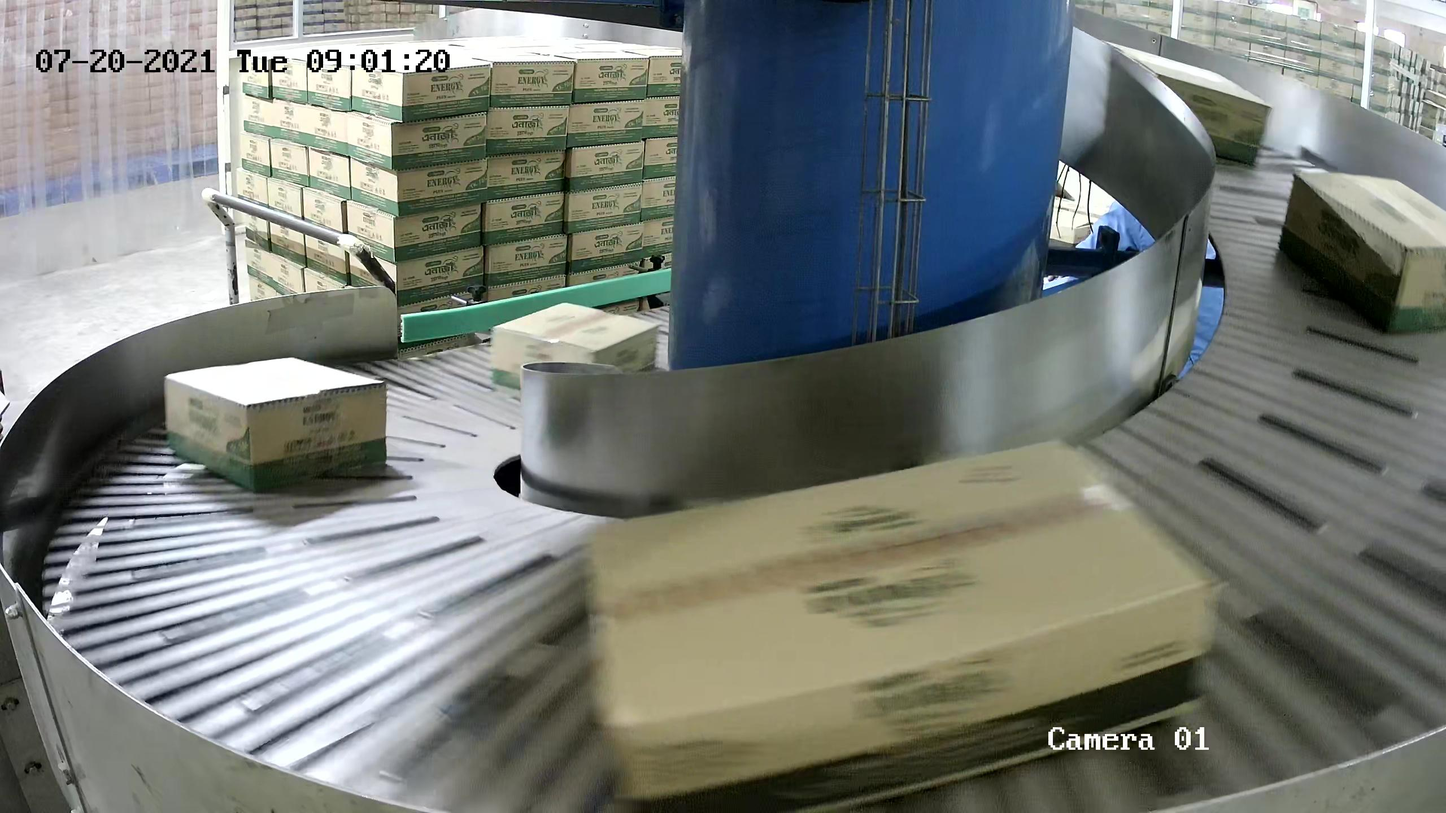Box: (581, 435, 1227, 813), (162, 356, 387, 496), (1277, 170, 1446, 335), (1098, 38, 1273, 166), (489, 301, 660, 390)
